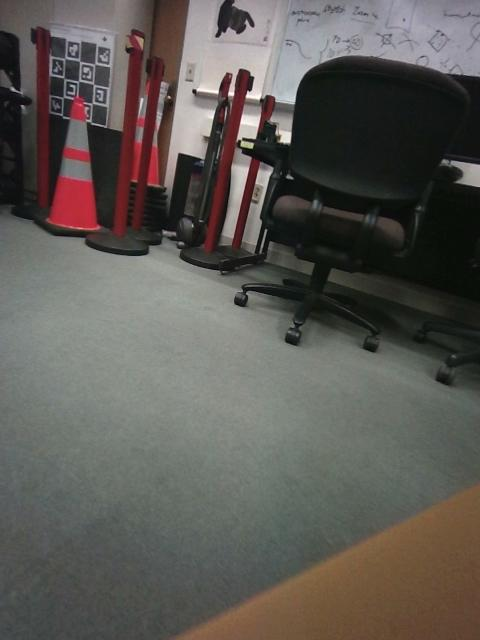block: (36, 303, 73, 390)
